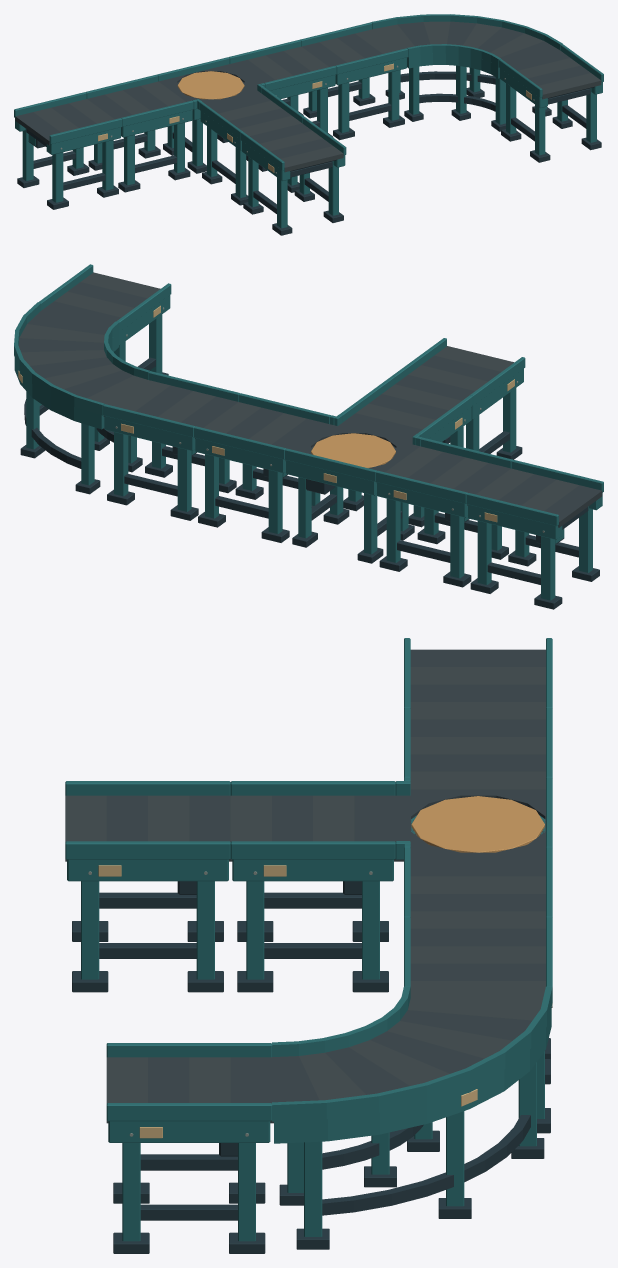
File: conveyor-kit.glb
3 views of the same model, one above another, from view 1: azimuth 30°, elevation 25°; view 2: azimuth 150°, elevation 25°; view 3: azimuth 270°, elevation 25° (orthographic). The views are drawn at different scales.
Visible parts, largest first — view 1: conveyor-kit__batch_03, conveyor-kit__batch_00, conveyor-kit__batch_31, conveyor-kit__batch_19, conveyor-kit__batch_25, conveyor-kit__batch_43, conveyor-kit__batch_07, conveyor-kit__batch_13, conveyor-kit__batch_37, conveyor-kit__batch_01, conveyor-kit__batch_30, conveyor-kit__batch_50 (+22 smaller); view 2: conveyor-kit__batch_00, conveyor-kit__batch_31, conveyor-kit__batch_25, conveyor-kit__batch_19, conveyor-kit__batch_03, conveyor-kit__batch_13, conveyor-kit__batch_47, conveyor-kit__batch_43, conveyor-kit__batch_07, conveyor-kit__batch_30, conveyor-kit__batch_37, conveyor-kit__batch_50 (+21 smaller); view 3: conveyor-kit__batch_03, conveyor-kit__batch_00, conveyor-kit__batch_43, conveyor-kit__batch_37, conveyor-kit__batch_07, conveyor-kit__batch_01, conveyor-kit__batch_50, conveyor-kit__batch_06, conveyor-kit__batch_36, conveyor-kit__batch_42, conveyor-kit__batch_16, conveyor-kit__batch_23 (+18 smaller).
Boxes of the visible parts, left/top/right/bottom form: conveyor-kit__batch_03: left=371, top=14, right=562, bottom=124; conveyor-kit__batch_00: left=373, top=21, right=559, bottom=63; conveyor-kit__batch_31: left=14, top=92, right=121, bottom=202; conveyor-kit__batch_19: left=300, top=22, right=407, bottom=132; conveyor-kit__batch_25: left=85, top=74, right=193, bottom=185; conveyor-kit__batch_43: left=241, top=117, right=346, bottom=228; conveyor-kit__batch_07: left=499, top=44, right=603, bottom=155; conveyor-kit__batch_13: left=228, top=39, right=336, bottom=133; conveyor-kit__batch_37: left=199, top=86, right=304, bottom=197; conveyor-kit__batch_01: left=385, top=71, right=551, bottom=131; conveyor-kit__batch_30: left=17, top=129, right=118, bottom=209; conveyor-kit__batch_50: left=177, top=71, right=244, bottom=99; conveyor-kit__batch_00: left=18, top=311, right=147, bottom=416; conveyor-kit__batch_31: left=466, top=460, right=603, bottom=600; conveyor-kit__batch_25: left=375, top=437, right=512, bottom=578; conveyor-kit__batch_19: left=103, top=371, right=240, bottom=511; conveyor-kit__batch_03: left=14, top=302, right=149, bottom=485; conveyor-kit__batch_13: left=194, top=393, right=331, bottom=533; conveyor-kit__batch_47: left=285, top=414, right=422, bottom=554; conveyor-kit__batch_43: left=392, top=338, right=525, bottom=452; conveyor-kit__batch_07: left=38, top=264, right=171, bottom=373; conveyor-kit__batch_30: left=470, top=507, right=599, bottom=609; conveyor-kit__batch_37: left=339, top=376, right=472, bottom=517; conveyor-kit__batch_50: left=311, top=433, right=395, bottom=468; conveyor-kit__batch_03: left=272, top=986, right=552, bottom=1236; conveyor-kit__batch_00: left=272, top=998, right=542, bottom=1123; conveyor-kit__batch_43: left=65, top=781, right=230, bottom=979; conveyor-kit__batch_37: left=230, top=781, right=395, bottom=979; conveyor-kit__batch_07: left=106, top=1043, right=271, bottom=1241; conveyor-kit__batch_01: left=279, top=1115, right=544, bottom=1249; conveyor-kit__batch_50: left=411, top=796, right=544, bottom=852; conveyor-kit__batch_06: left=113, top=1143, right=265, bottom=1253; conveyor-kit__batch_36: left=237, top=881, right=388, bottom=992; conveyor-kit__batch_42: left=72, top=881, right=223, bottom=992; conveyor-kit__batch_16: left=410, top=928, right=545, bottom=980; conveyor-kit__batch_23: left=410, top=737, right=545, bottom=789.
Bounding box in the file's own units: 6.7 × 1 × 2.95.
